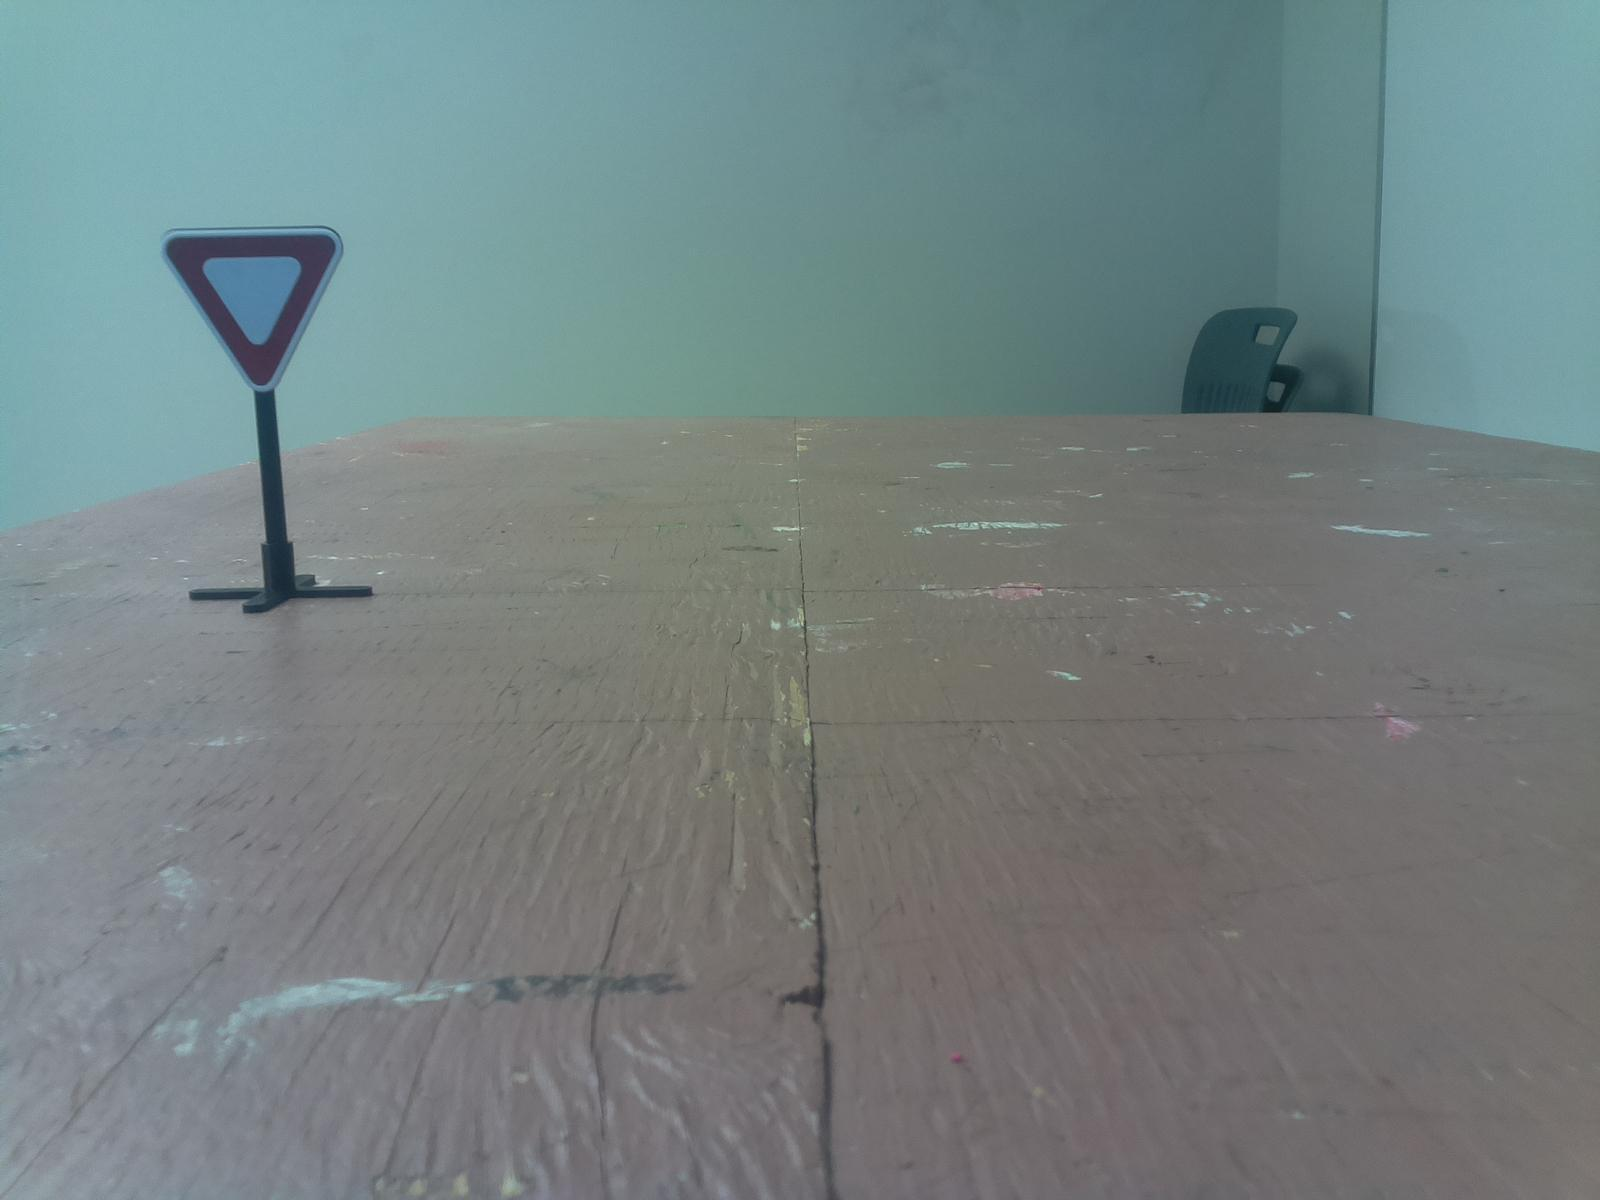sign_yield: (131, 217, 367, 400)
